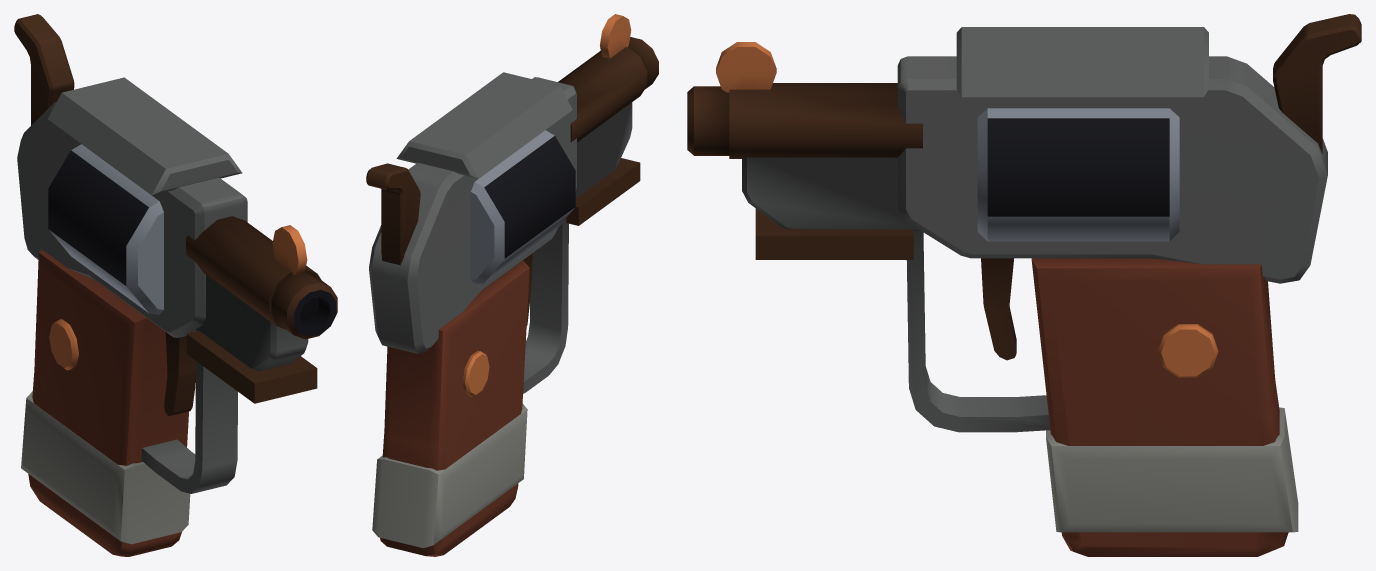
Rendered from pocket_change.glb.
3 renders of one model, left to right at view 1: azimuth 30°, elevation 25°; view 2: azimuth 150°, elevation 25°; view 3: azimuth 270°, elevation 25°, orthographic. The views are drawn at different scales.
Parts seen in each view (by area): view 1: frame, cylinder, hammer; view 2: frame, cylinder, hammer; view 3: frame, cylinder, hammer.
Boxes of the visible parts, left/top/right/bottom form: frame: left=17, top=77, right=337, bottom=556; cylinder: left=48, top=144, right=163, bottom=314; hammer: left=14, top=14, right=74, bottom=125; frame: left=369, top=14, right=658, bottom=556; cylinder: left=470, top=130, right=575, bottom=284; hammer: left=366, top=163, right=420, bottom=265; frame: left=687, top=27, right=1327, bottom=556; cylinder: left=977, top=108, right=1179, bottom=241; hammer: left=1273, top=14, right=1361, bottom=153.
Bounding box in the file's own units: 0.1902 × 0.6879 × 0.8013.
1 material, 1 textured.
